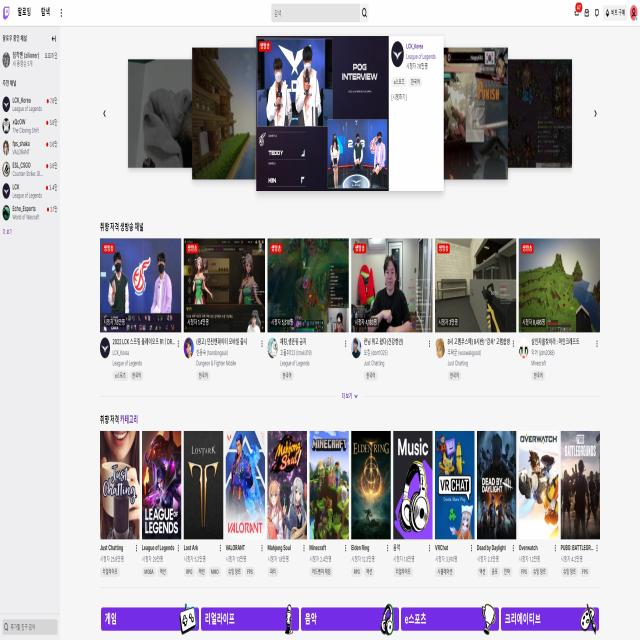menu-bar: (572, 1, 638, 24)
search: (269, 3, 371, 23)
tab-bar: (1, 4, 65, 22)
